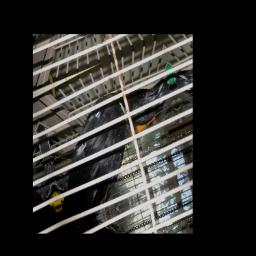Crow: (40, 67, 190, 233)
